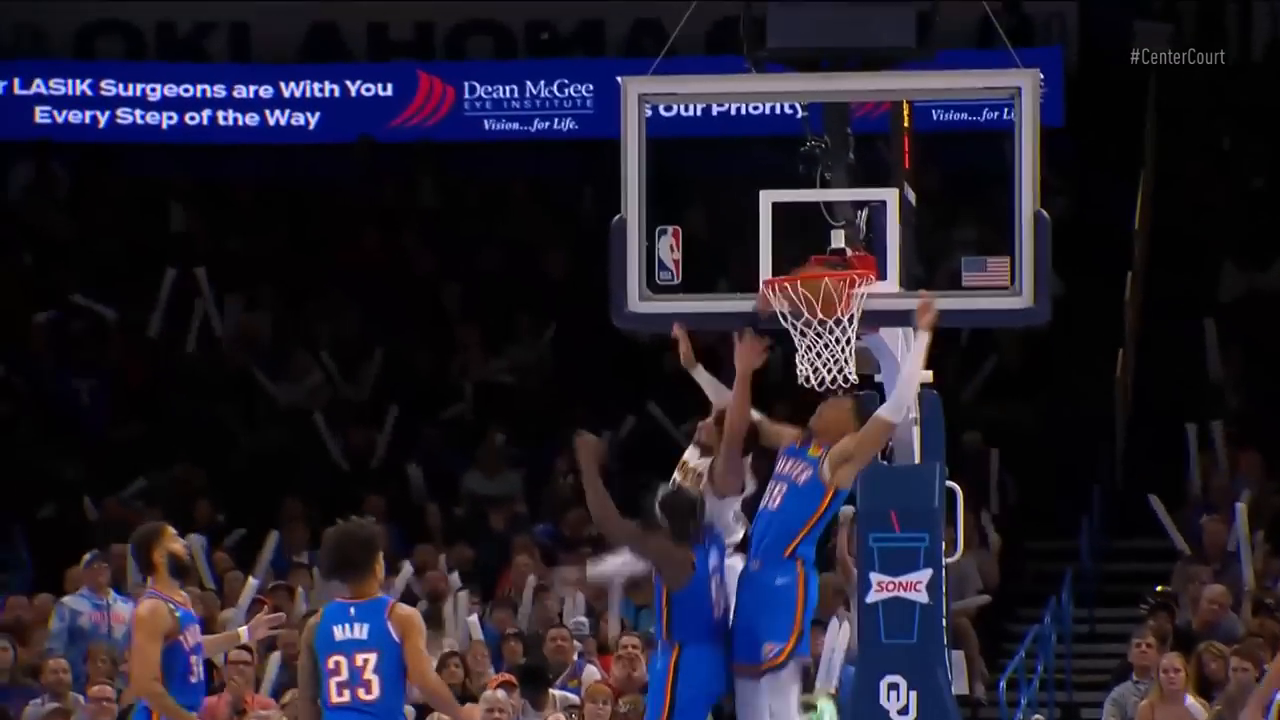ball: (783, 263, 852, 327)
net: (756, 263, 882, 391)
